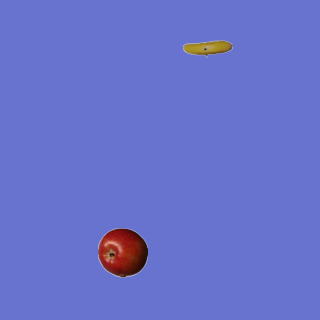Apple Braeburn: (97, 227, 147, 277)
Banana: (182, 23, 232, 73)
